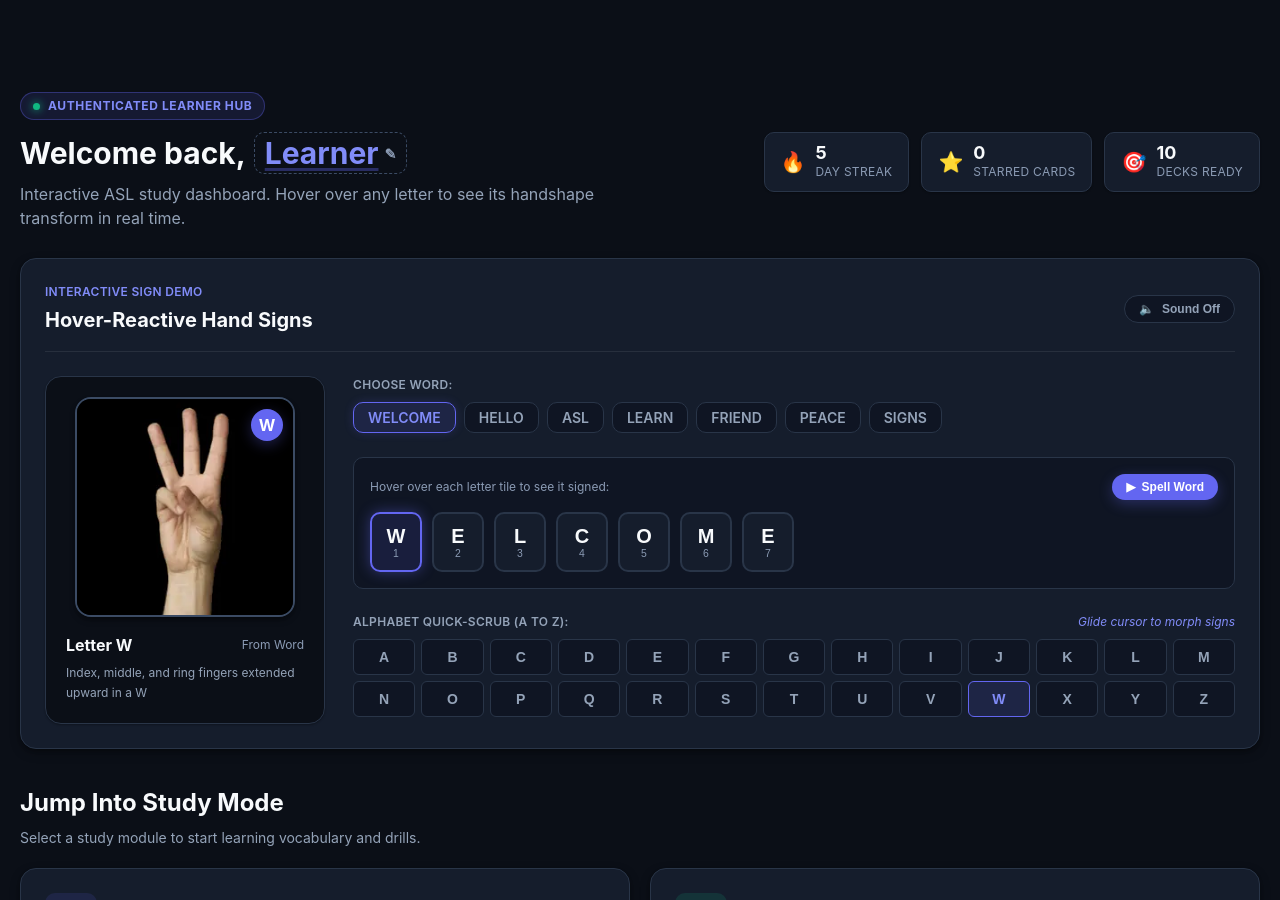
it: Welcome Component - Interactive Sign-on-Hover Hub › updates active sign when hovering over alphabet ribbon chips
Hover over the button with test id "alphabet-chip-K": point(1067, 657) [1036,639,1098,675]
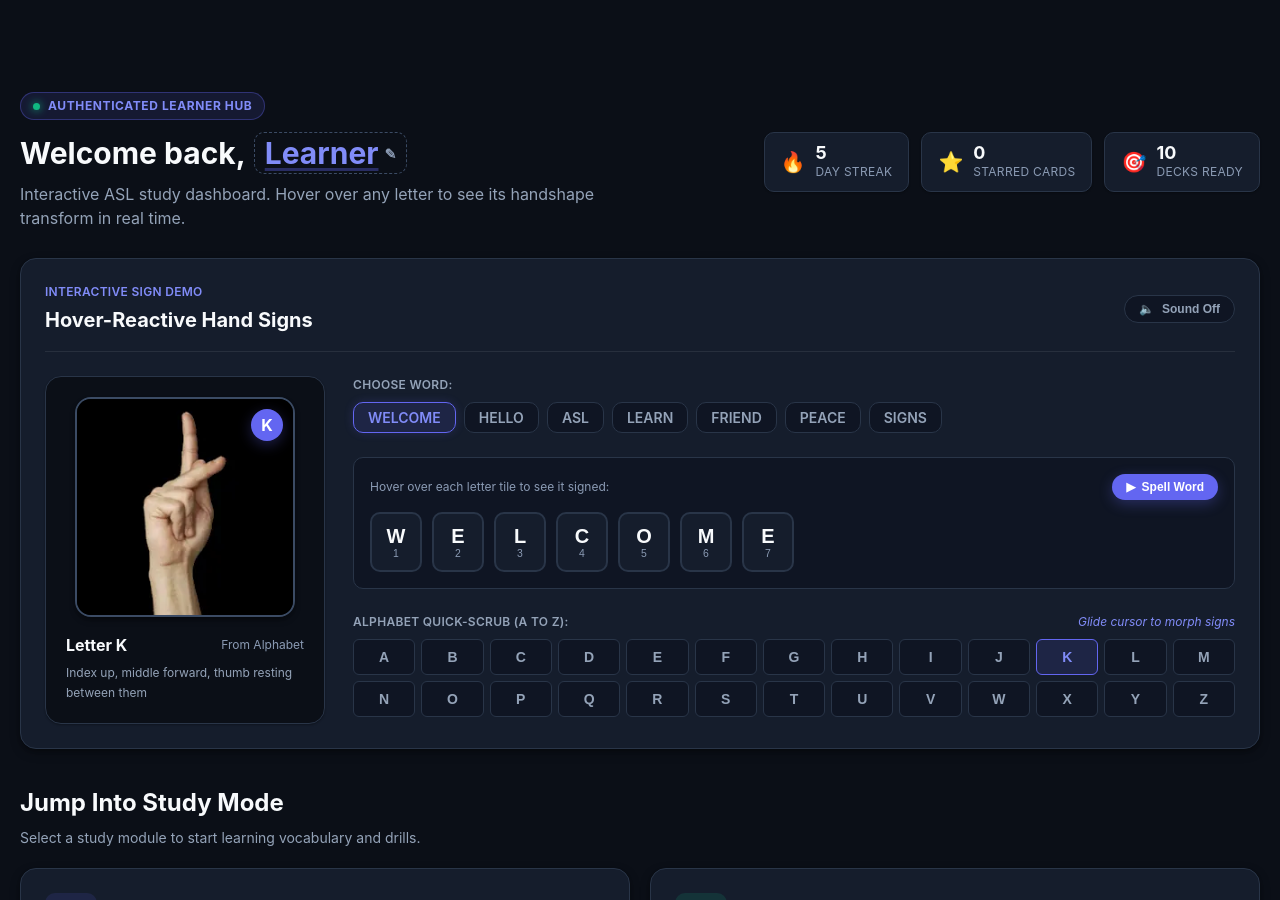
expect the text "Letter K" is shown: met, box [66,633,127,657]
expect the text "From alphabet" is shown: met, box [221,636,304,654]
